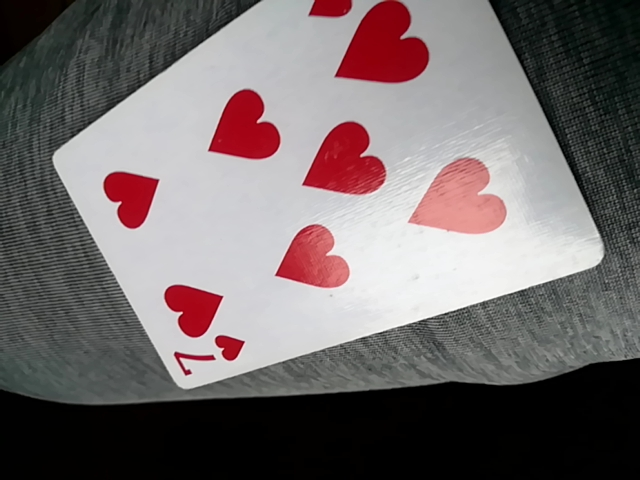hx 7: (46, 3, 610, 399)
